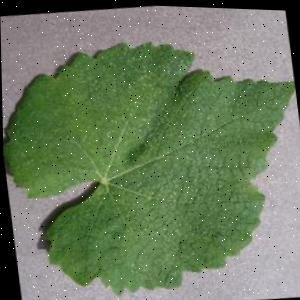Folha: (0, 18, 300, 300)
